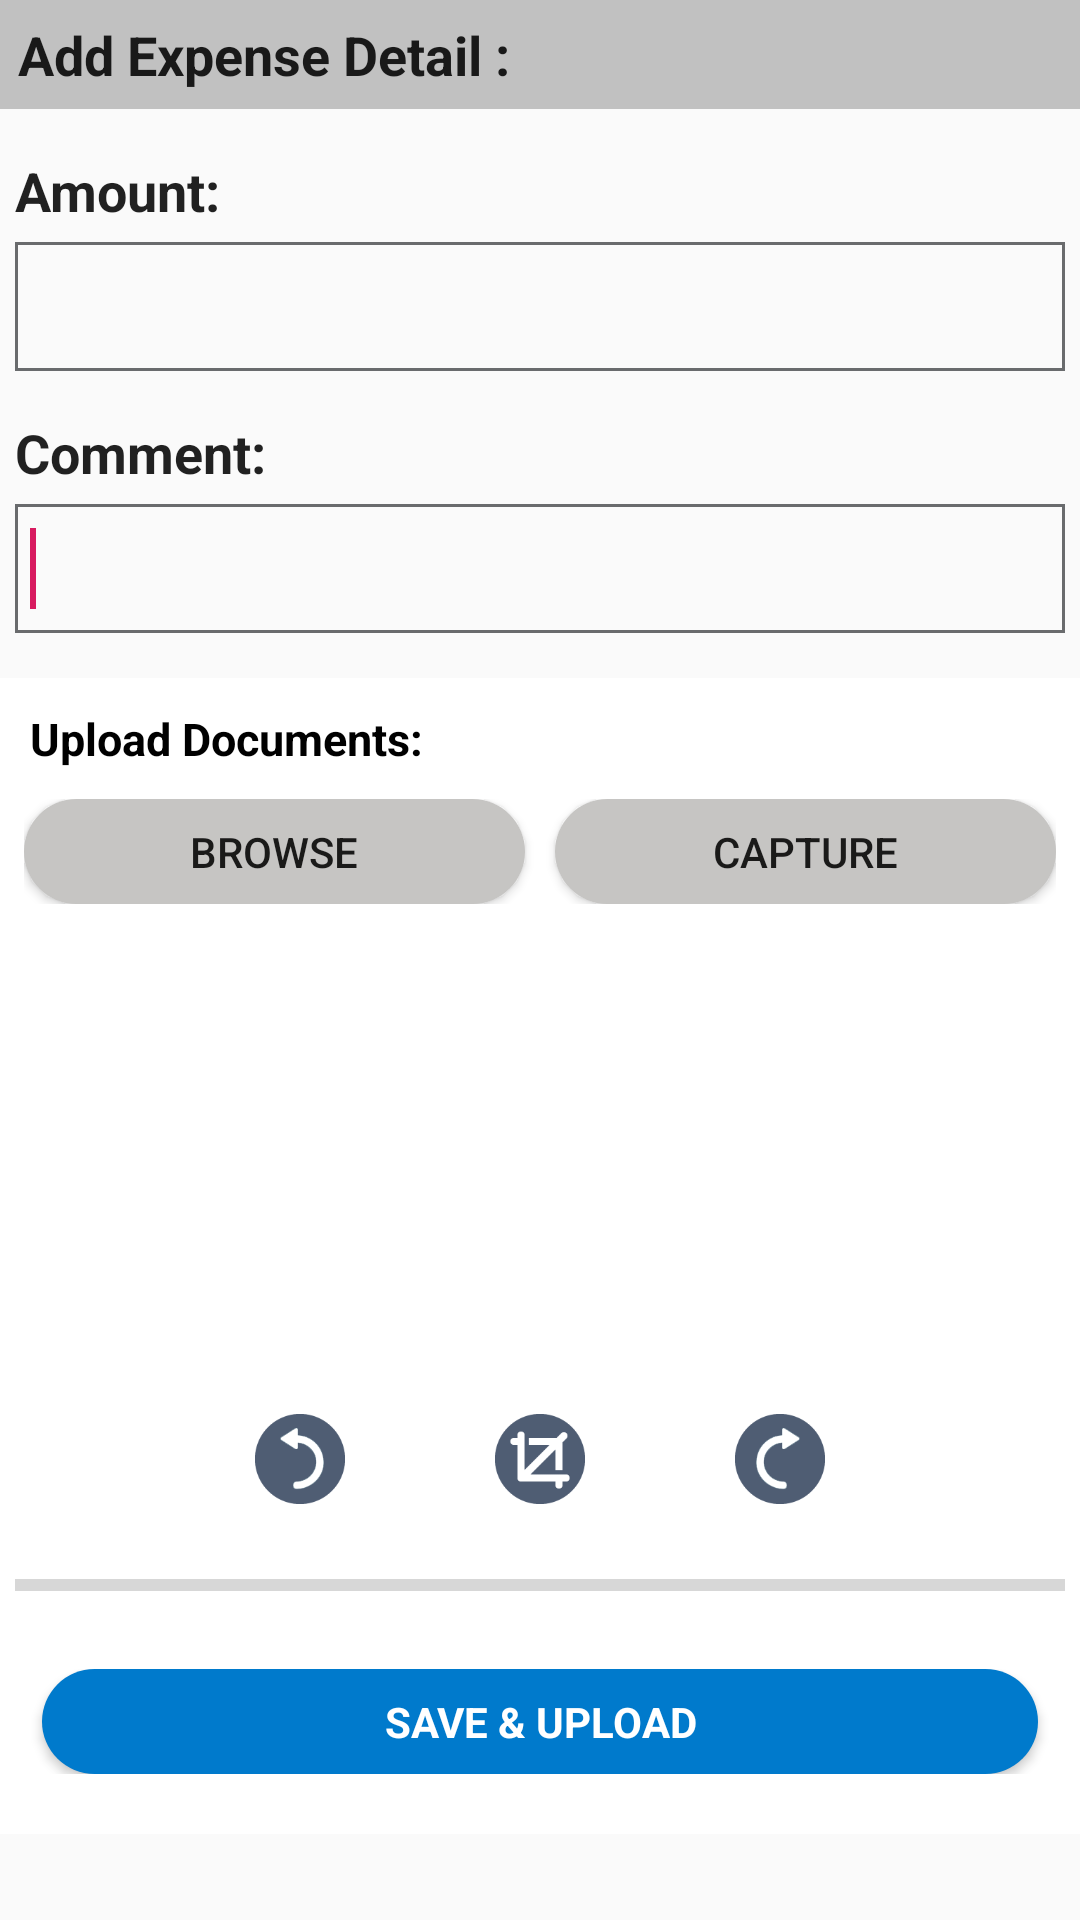

Icon bounding boxes for this 1080px×1920px phone screenshot, format (x1, y1, x2, y2):
crop: (495, 1414, 585, 1504)
rotate left: (255, 1414, 345, 1504)
rotate right: (735, 1414, 825, 1504)
